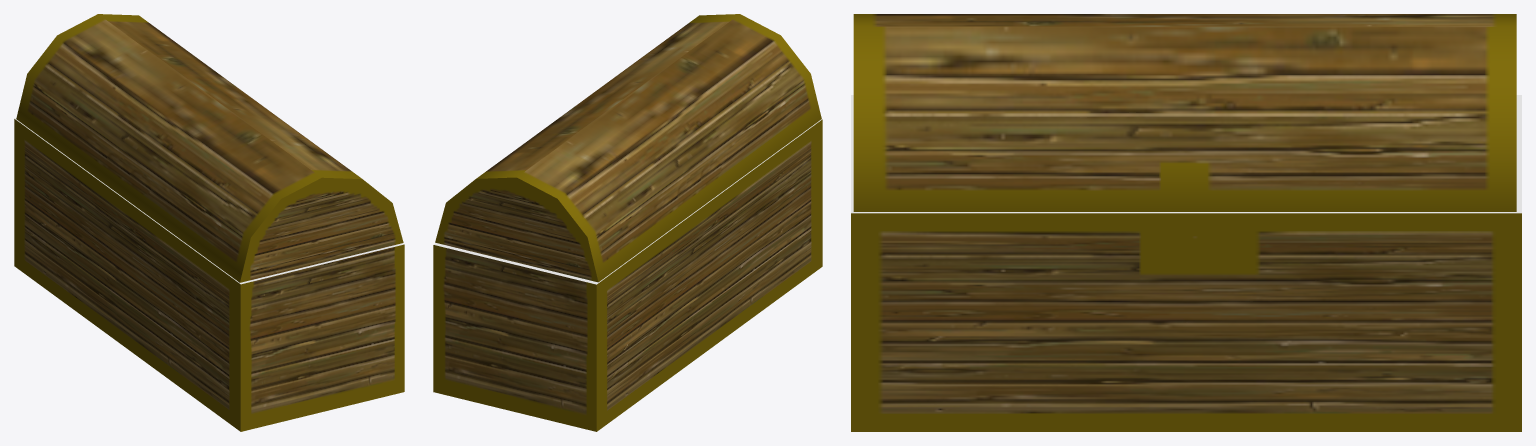
File: treasurechest.fbx
3 renders of one model, left to right at view 1: azimuth 30°, elevation 25°; view 2: azimuth 150°, elevation 25°; view 3: azimuth 270°, elevation 25°, orthographic. The views are drawn at different scales.
Visible parts, largest first — view 1: Box01, Cylinder02; view 2: Box01, Cylinder02; view 3: Box01, Cylinder02.
Part boxes in pixels (x1,y1,x2,y2): Box01: [14, 118, 404, 431]; Cylinder02: [16, 14, 403, 282]; Box01: [433, 119, 822, 431]; Cylinder02: [435, 14, 821, 282]; Box01: [851, 95, 1521, 431]; Cylinder02: [853, 14, 1516, 211].
Size of the model in its own units: 5.38 by 7.34 by 12.89.
1 material, 1 textured.
